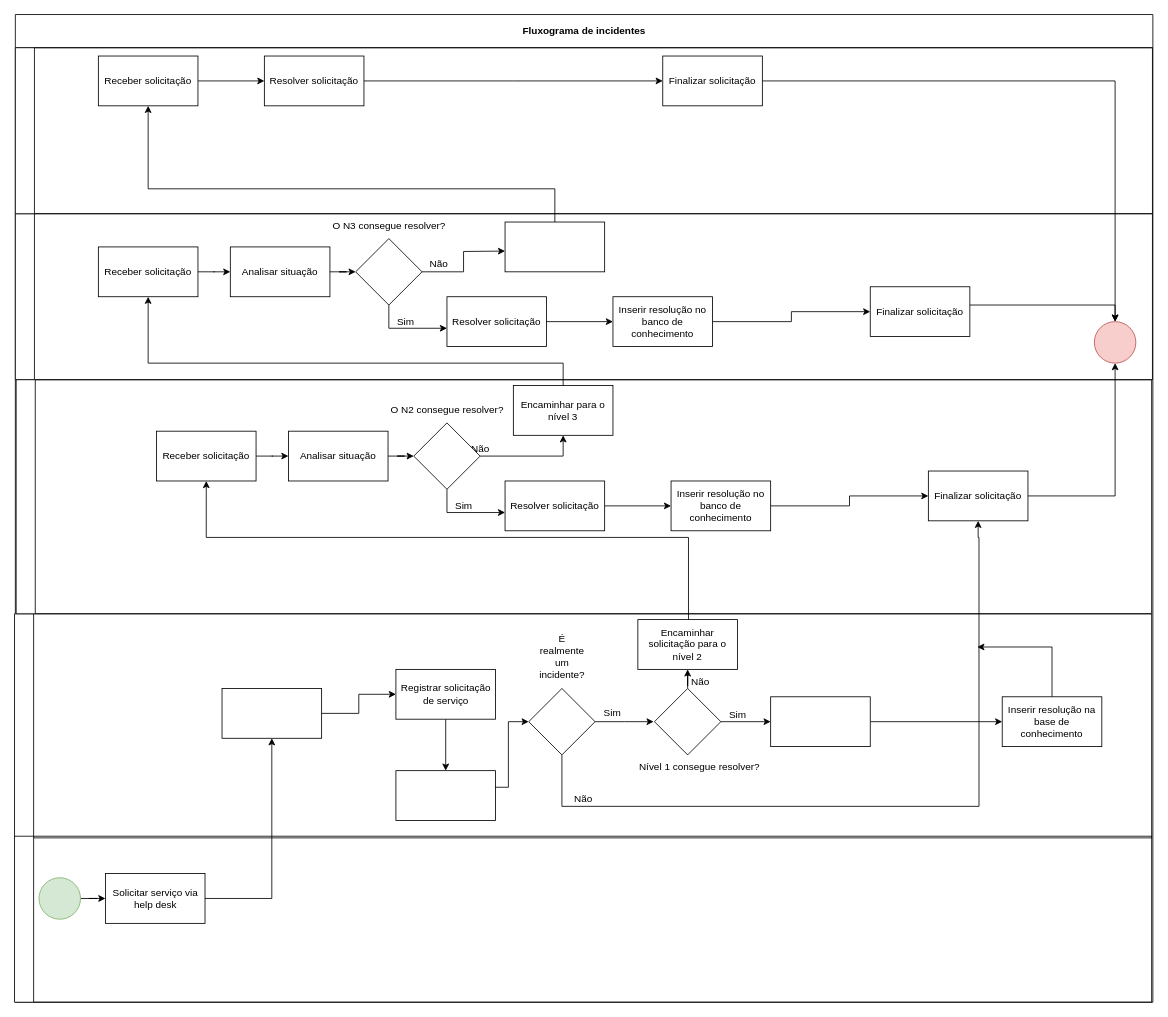
This 1168x1017 diagram has some shape labels left out. Each missing label, with the box of its shape:
Cliente: (14, 835, 1152, 1002)
Consultar base de conhecimento: (395, 770, 496, 820)
Encaminhar para o fornecedor: (504, 221, 605, 272)
Fornecedor: (15, 47, 1152, 214)
Receber ticket de suporte pela ferramenta: (221, 688, 322, 738)
Resolver o incidente: (770, 696, 870, 747)
Suporte N1: (14, 613, 1152, 838)
Suporte N2: (15, 379, 1152, 614)
Suporte N3: (15, 213, 1152, 380)
